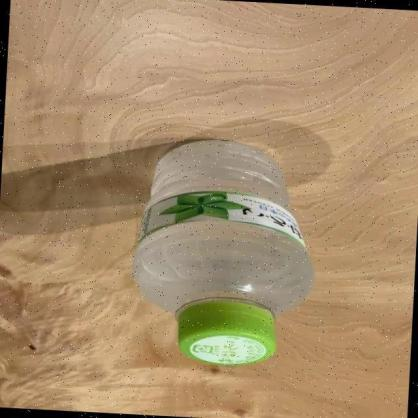bottle: (134, 138, 316, 366)
cap: (177, 297, 276, 365)
label: (138, 192, 308, 254)
